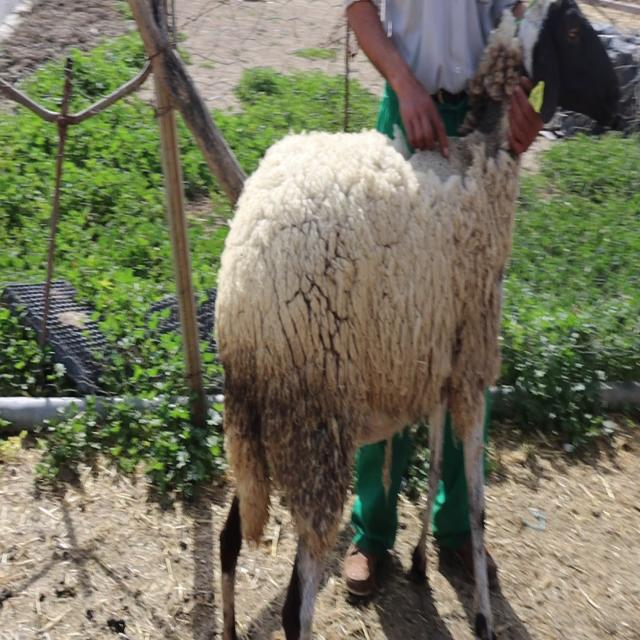Score_3: (215, 0, 619, 639)
